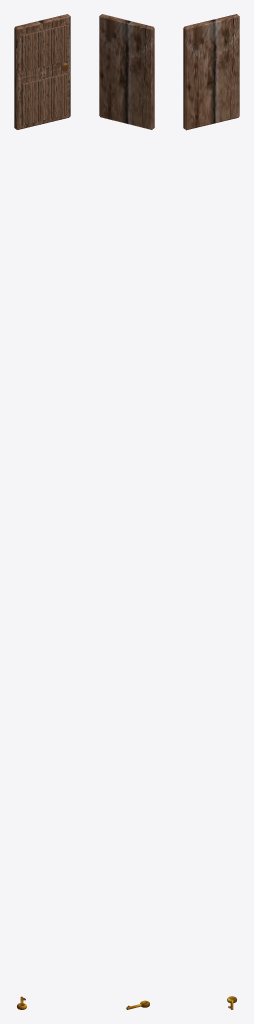
The model's file is greenkey.fbx.
The picture shows the model from 3 angles, left to right: view 1: azimuth 90°, elevation 25°; view 2: azimuth 210°, elevation 25°; view 3: azimuth 270°, elevation 25°; orthographic projection.
Parts seen in each view (by area): view 1: pCube53; view 2: pCube53; view 3: pCube53.
Part boxes in pixels (x1,y1,x2,y2): pCube53: (14,14,70,129); pCube53: (99,14,154,129); pCube53: (183,14,239,130).
Size of the model in its own units: 0.5552 by 17.26 by 0.8947.
Materials: 3 (3 with a texture image).
